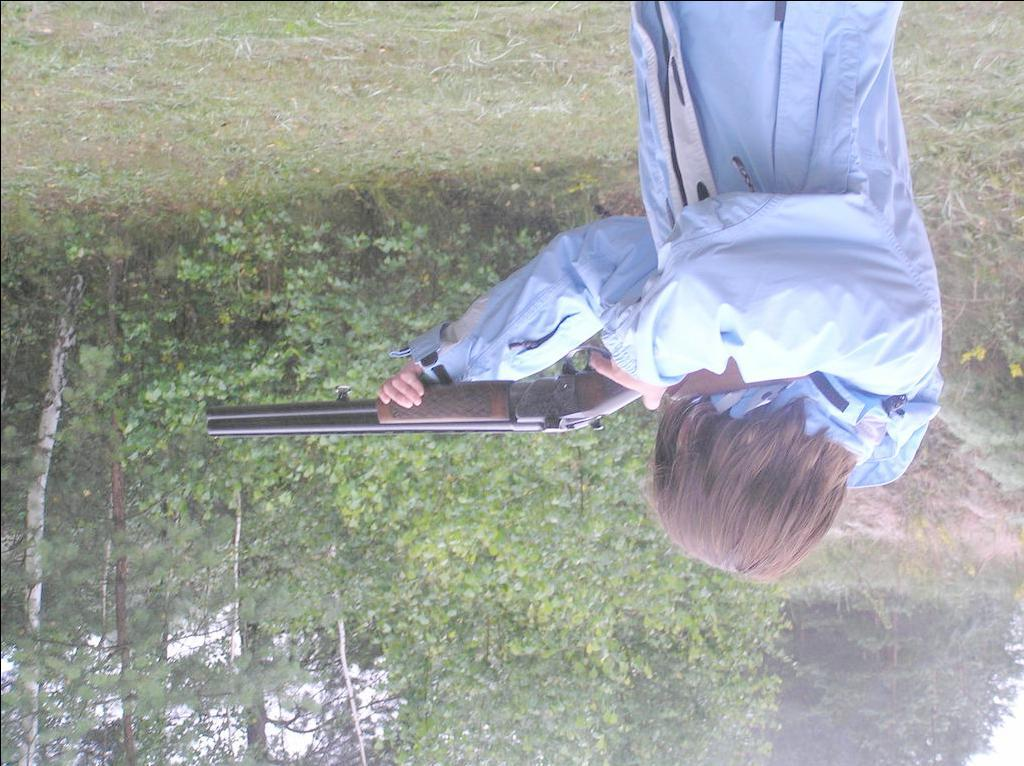gun: (200, 376, 725, 446)
